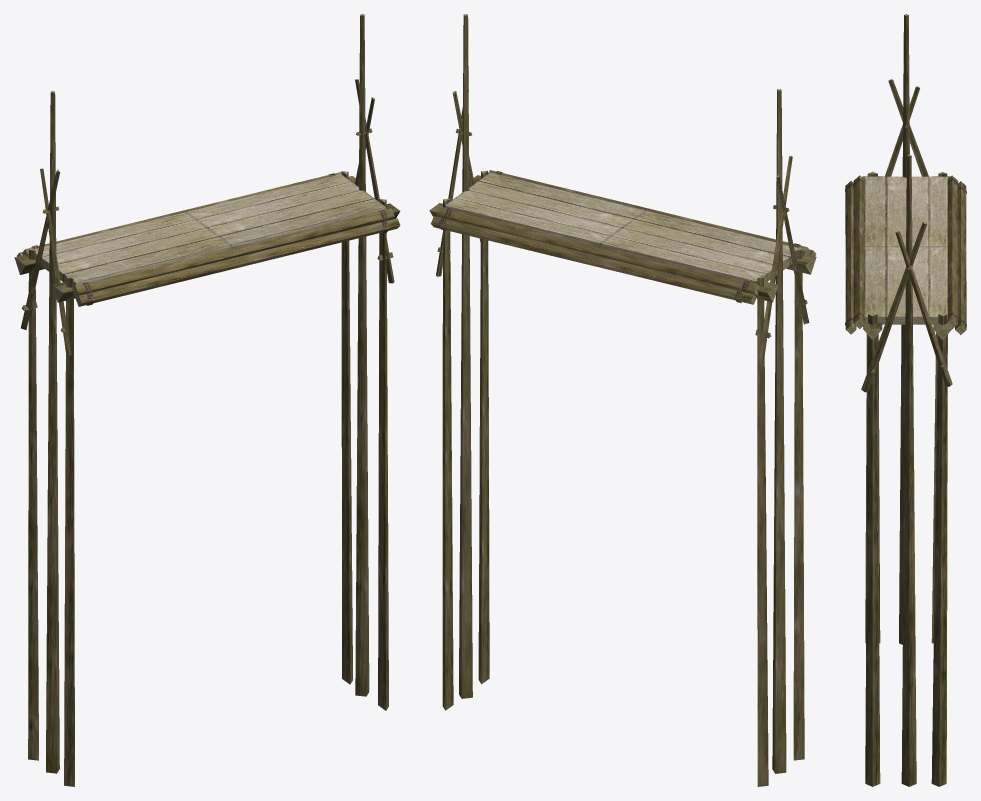
Rendered from thm_endr_lake_platform_cap_s01_l2.fbx.
The picture shows the model from 3 angles, left to right: view 1: azimuth 30°, elevation 25°; view 2: azimuth 150°, elevation 25°; view 3: azimuth 270°, elevation 25°; orthographic projection. The views are drawn at different scales.
Visible parts, largest first — view 1: mesh_node; view 2: mesh_node; view 3: mesh_node.
Boxes of the visible parts, <box> form: mesh_node: <box>14,14,400,786</box>; mesh_node: <box>429,14,816,786</box>; mesh_node: <box>845,14,966,786</box>.
Bounding box in the file's own units: 8.68 × 16.68 × 2.93.
Materials: 2 (2 with a texture image).
